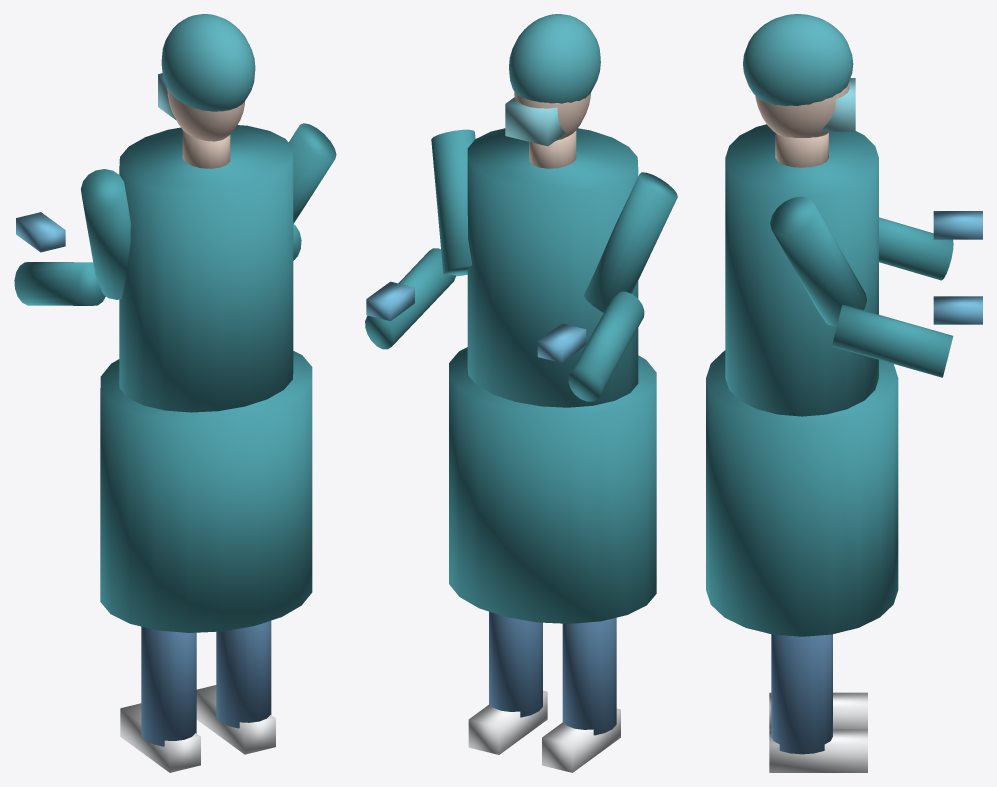
The model's file is Character_Surgeon_Lead.glb.
The picture shows the model from 3 angles, left to right: view 1: azimuth 30°, elevation 25°; view 2: azimuth 150°, elevation 25°; view 3: azimuth 270°, elevation 25°; orthographic projection.
Parts seen in each view (by area): view 1: Character_Surgeon_Lead; view 2: Character_Surgeon_Lead; view 3: Character_Surgeon_Lead.
Boxes of the visible parts, box(x1,y1,x2,y2) form: Character_Surgeon_Lead: box(14, 14, 336, 772); Character_Surgeon_Lead: box(365, 14, 677, 772); Character_Surgeon_Lead: box(706, 14, 982, 772).
Size of the model in its own units: 0.7259 by 2.06 by 0.7077.
